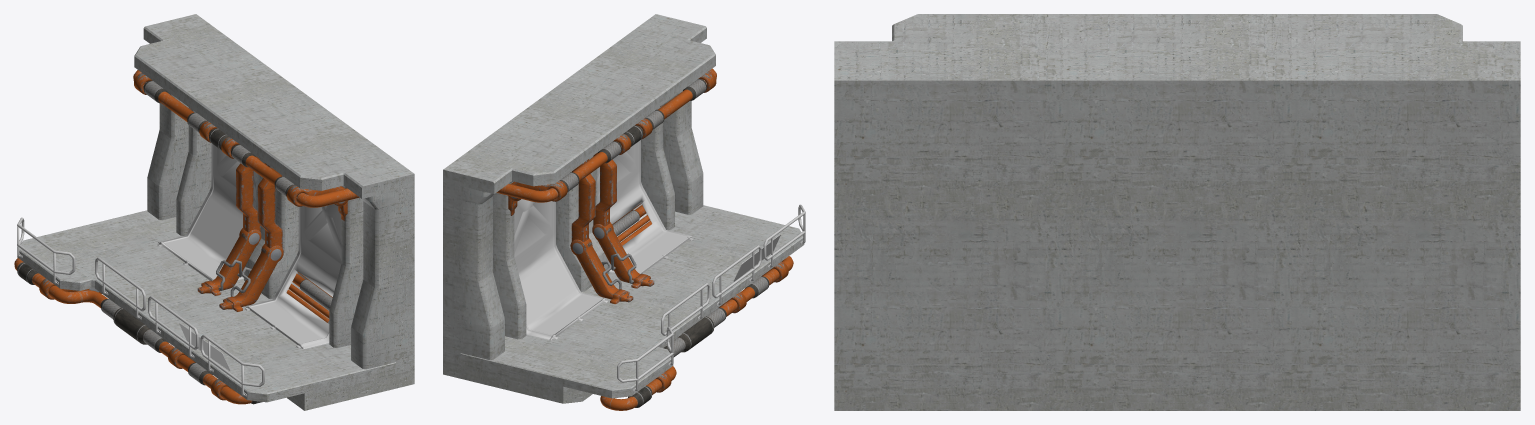
3 views of the same model, side by side, from view 1: azimuth 30°, elevation 25°; view 2: azimuth 150°, elevation 25°; view 3: azimuth 270°, elevation 25° (orthographic). The views are drawn at different scales.
Visible parts, largest first — view 1: Box001, Box003, wall_panel_01_1_set_015, pilar_213, wall_panel_01_1_set_8, Box002, pilar_214, pilar_209, support_3, support_02_311, pilar_15, pilar_16 (+14 smaller); view 2: Box001, Box003, wall_panel_01_1_set_8, pilar_214, wall_panel_01_1_set_015, Box002, pilar_213, pilar_15, support_02_311, support_3, pilar_209, pilar_212 (+12 smaller); view 3: Box002, Box003.
Boxes of the visible parts, x1=… form: Box001: x1=17, y1=210, x2=396, y2=410; Box003: x1=134, y1=14, x2=414, y2=198; wall_panel_01_1_set_015: x1=179, y1=204, x2=341, y2=370; pilar_213: x1=351, y1=190, x2=396, y2=369; wall_panel_01_1_set_8: x1=157, y1=143, x2=255, y2=280; Box002: x1=396, y1=174, x2=414, y2=388; pilar_214: x1=147, y1=92, x2=188, y2=220; pilar_209: x1=329, y1=185, x2=363, y2=347; support_3: x1=219, y1=137, x2=283, y2=311; support_02_311: x1=197, y1=121, x2=261, y2=295; pilar_15: x1=176, y1=108, x2=211, y2=235; pilar_16: x1=261, y1=176, x2=298, y2=299; Box001: x1=460, y1=205, x2=804, y2=403; Box003: x1=443, y1=14, x2=715, y2=193; wall_panel_01_1_set_8: x1=514, y1=199, x2=608, y2=340; pilar_214: x1=460, y1=186, x2=504, y2=359; wall_panel_01_1_set_015: x1=597, y1=140, x2=780, y2=281; Box002: x1=443, y1=170, x2=460, y2=378; pilar_213: x1=663, y1=90, x2=703, y2=214; pilar_15: x1=493, y1=181, x2=526, y2=339; support_02_311: x1=570, y1=133, x2=633, y2=303; support_3: x1=592, y1=118, x2=654, y2=288; pilar_209: x1=641, y1=105, x2=674, y2=230; pilar_212: x1=556, y1=171, x2=592, y2=291; Box002: x1=834, y1=80, x2=1520, y2=410; Box003: x1=834, y1=14, x2=1520, y2=80.
Bounding box in the file's own units: 4.51 × 4.91 × 8.87.
